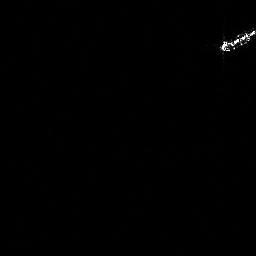ship: (220, 23, 256, 54)
